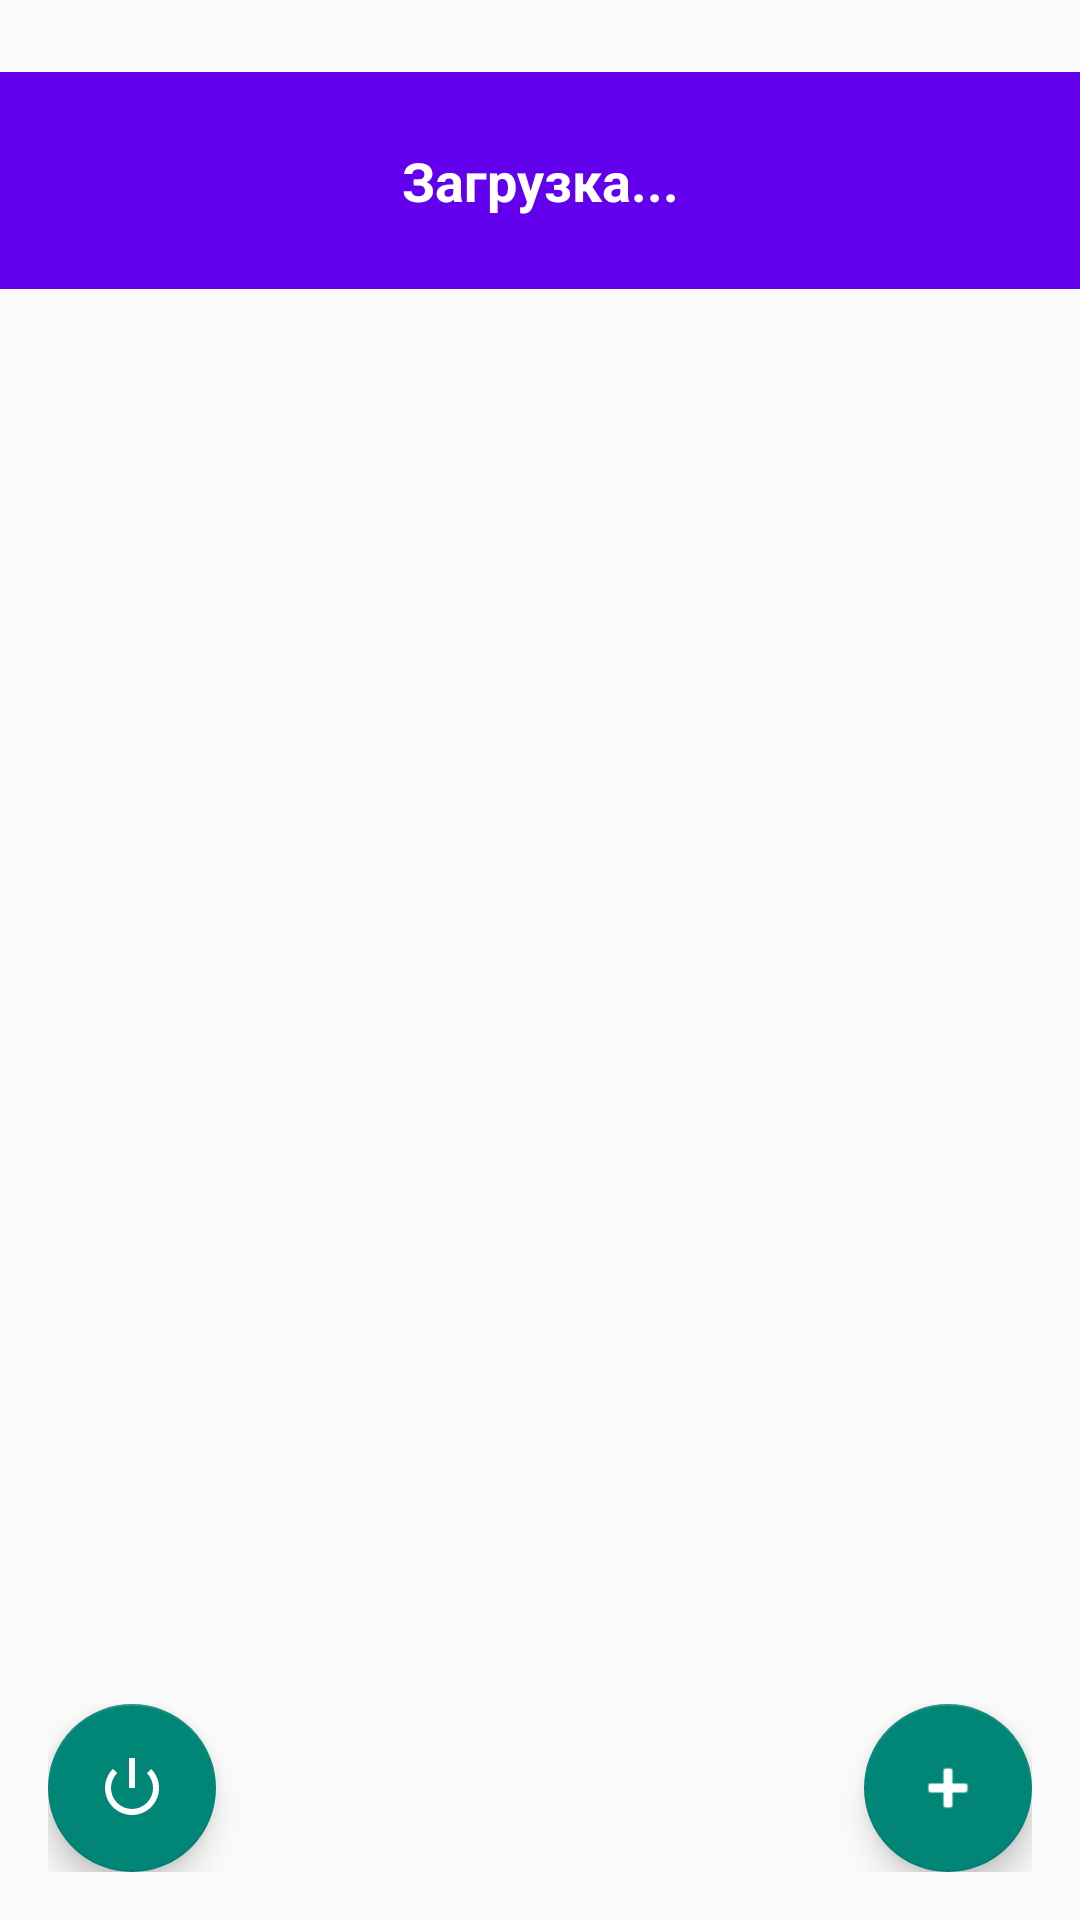

Screen size 1080px x 1920px. Icon name, then its box in pixels as (x1, y1, x2, y2):
add: (864, 1704, 1032, 1872)
lock power off: (48, 1704, 216, 1872)
